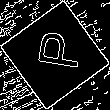P_W: (27, 33, 83, 77)
